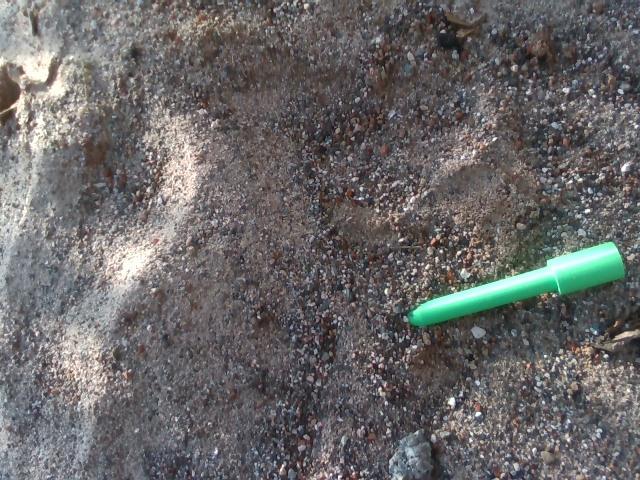Probe: (394, 238, 628, 332)
